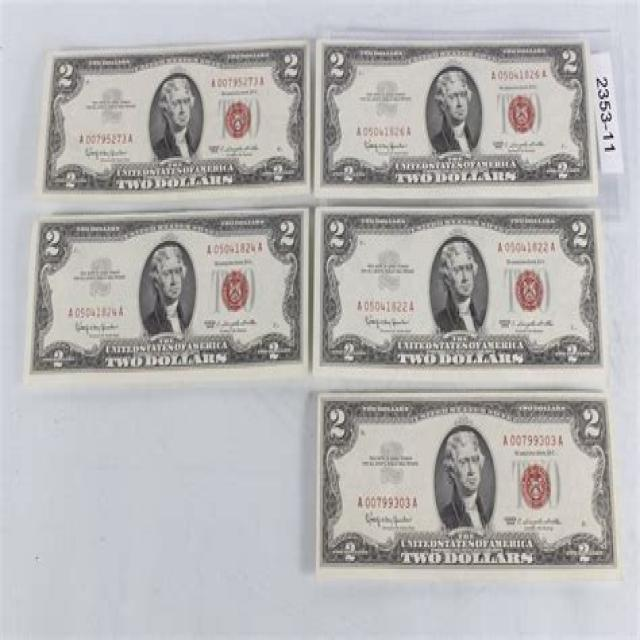Two: (318, 389, 623, 585), (314, 206, 610, 377), (26, 206, 313, 382), (313, 36, 597, 199), (36, 36, 314, 197)
